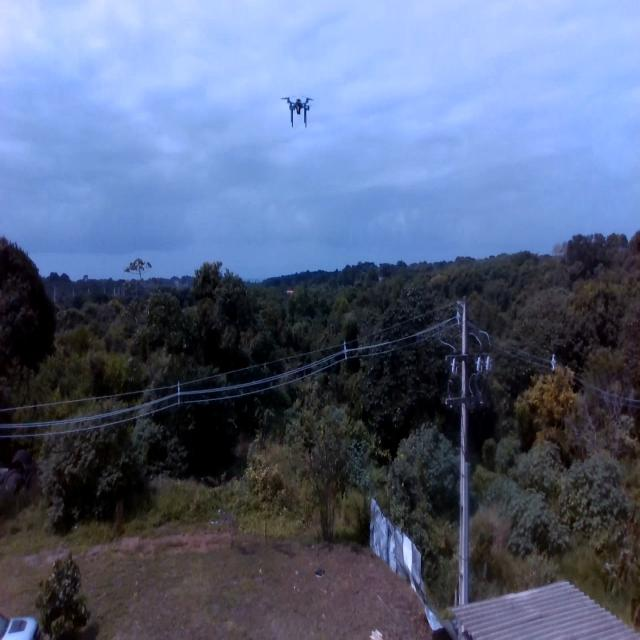-uav-: (278, 76, 318, 142)
